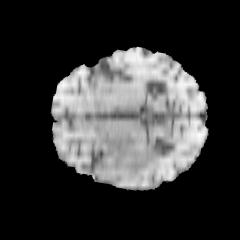glioma: (93, 133, 162, 182)
